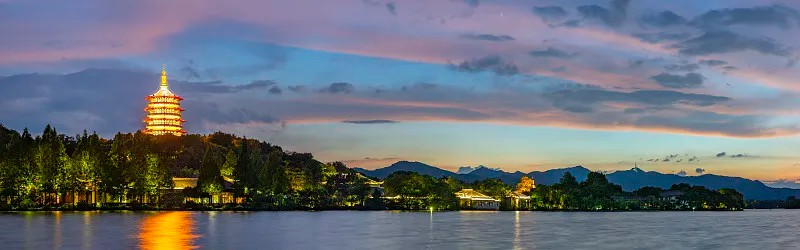Leifeng: (140, 64, 189, 139)
